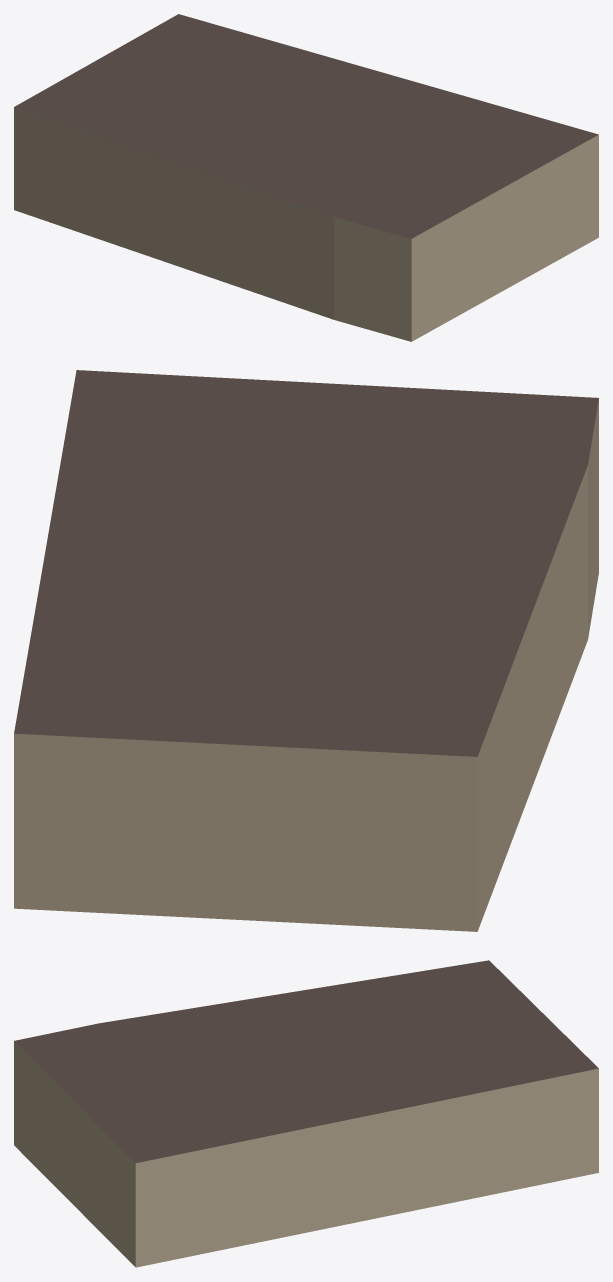
The picture shows the model from 3 angles, top to bottom: view 1: azimuth 30°, elevation 25°; view 2: azimuth 150°, elevation 25°; view 3: azimuth 270°, elevation 25°; orthographic projection. The views are drawn at different scales.
Visible parts, largest first — view 1: HP-w1515076964; view 2: HP-w1515076964; view 3: HP-w1515076964.
Part boxes in pixels (x1=…): HP-w1515076964: x1=14, y1=14, x2=598, y2=341; HP-w1515076964: x1=14, y1=370, x2=598, y2=931; HP-w1515076964: x1=14, y1=960, x2=598, y2=1267.
Size of the model in its own units: 37.53 by 9 by 45.71.
